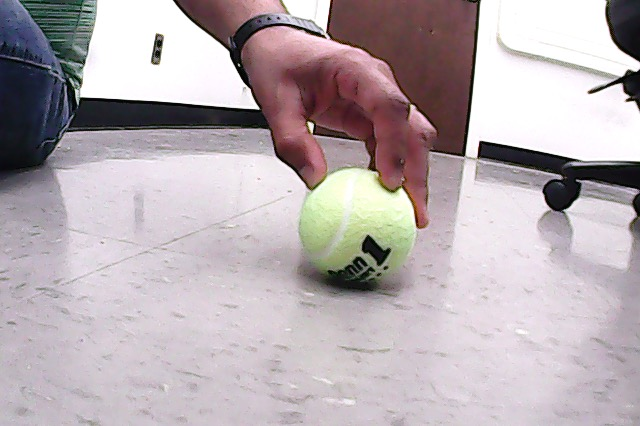ball: (297, 164, 419, 288)
